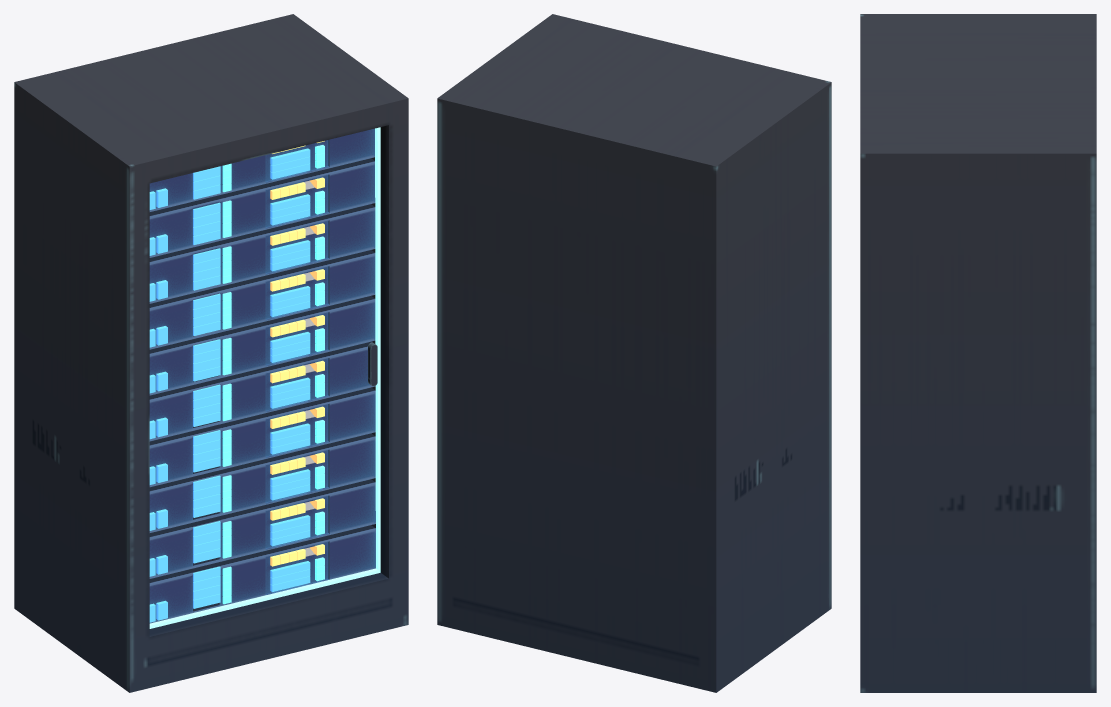
Rendered from superCPU_low.fbx.
3 renders of one model, left to right at view 1: azimuth 30°, elevation 25°; view 2: azimuth 150°, elevation 25°; view 3: azimuth 270°, elevation 25°, orthographic. The views are drawn at different scales.
Parts seen in each view (by area): view 1: superCPU_low; view 2: superCPU_low; view 3: superCPU_low.
Part boxes in pixels (x1,y1,x2,y2): superCPU_low: (14,14,408,692); superCPU_low: (437,14,831,692); superCPU_low: (860,14,1096,692).
Size of the model in its own units: 999 by 1800 by 715.
